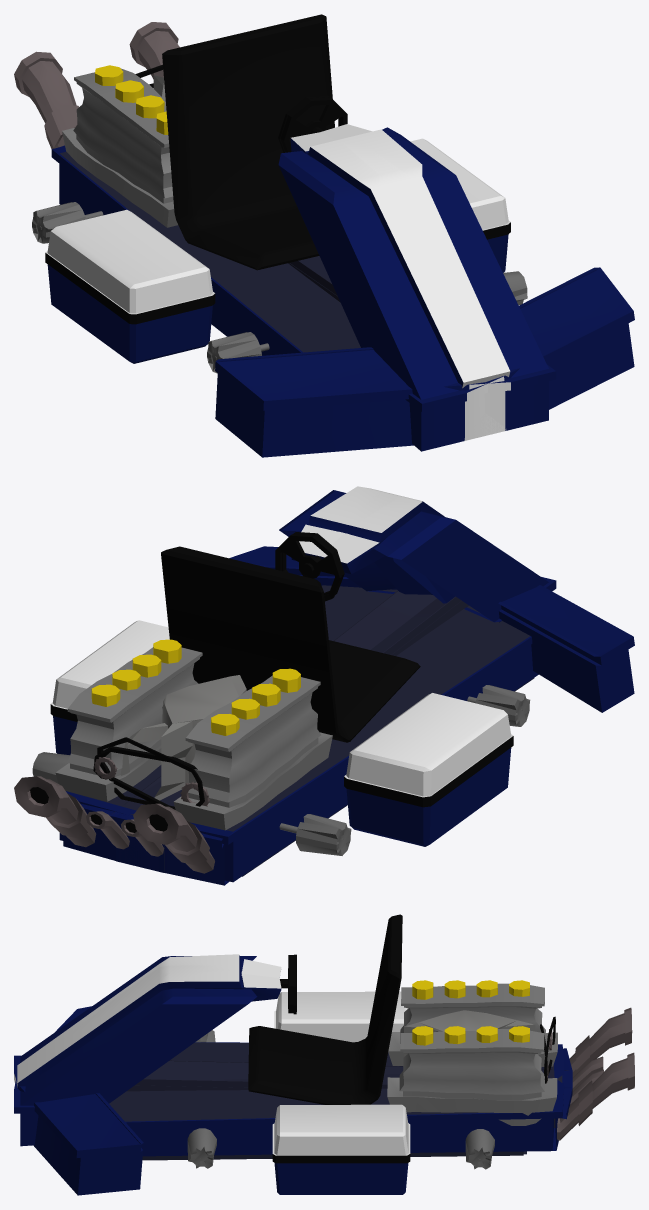
Rendered from KartGabriel.fbx.
3 views of the same model, one above another, from view 1: azimuth 30°, elevation 25°; view 2: azimuth 150°, elevation 25°; view 3: azimuth 270°, elevation 25° (orthographic). The views are drawn at different scales.
Parts seen in each view (by area): view 1: Volante; view 2: Volante; view 3: Volante.
Boxes of the visible parts, x1=… form: Volante: x1=14, y1=14, x2=634, y2=457; Volante: x1=14, y1=486, x2=634, y2=885; Volante: x1=14, y1=914, x2=634, y2=1195.
Bounding box in the file's own units: 604 × 353 × 1070.
